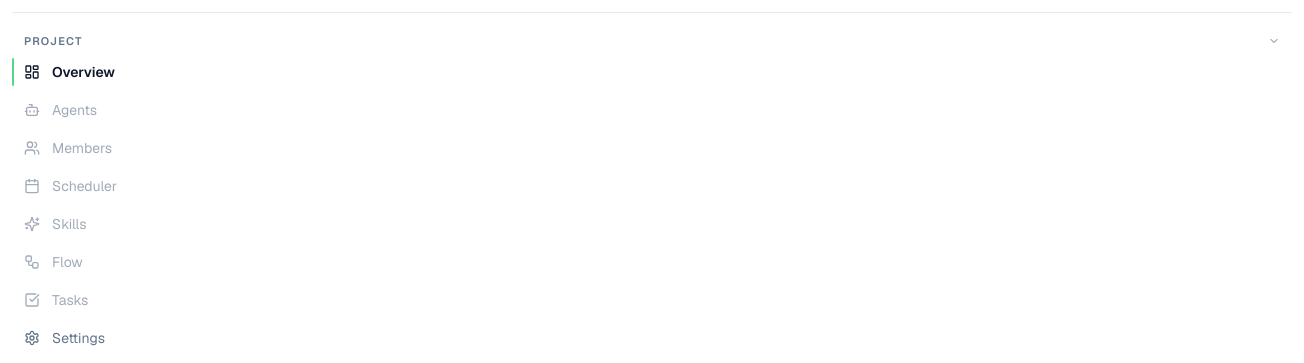
Test: ProjectContextSection › should render a collapsible section header labelled Project
Expected: the link "Overview" is shown, [12,54,1292,90]
Click the button "Project" at coordinates (53, 41), box [12,25,1292,54]
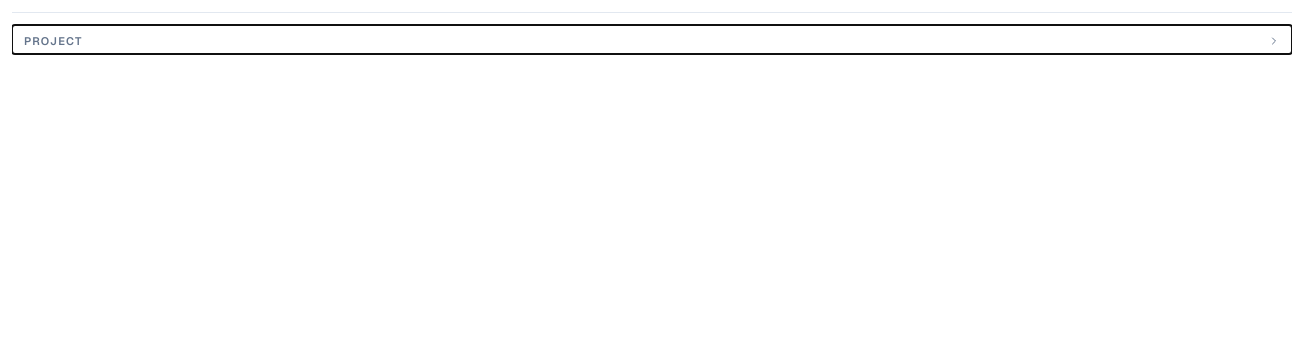
Now the link "Overview" is gone
